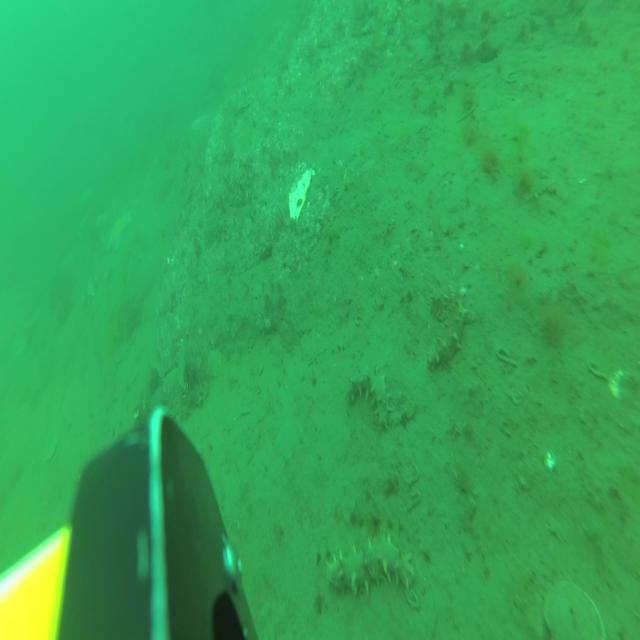holothurian: (327, 535, 415, 595), (429, 292, 469, 373), (348, 365, 394, 431)
scallop: (546, 576, 606, 640)
starfish: (108, 209, 130, 252)
